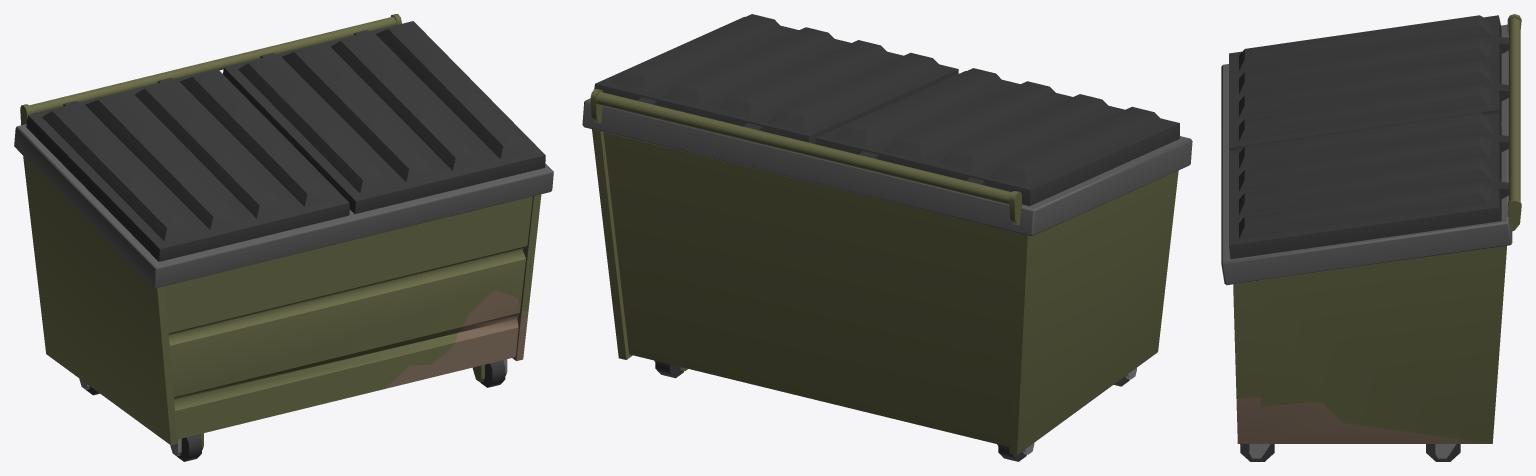
Rendered from model_dumpster.fbx.
3 views of the same model, side by side, from view 1: azimuth 30°, elevation 25°; view 2: azimuth 150°, elevation 25°; view 3: azimuth 270°, elevation 25° (orthographic). The views are drawn at different scales.
Visible parts, largest first — view 1: model_dumpster, lid2, lid1; view 2: model_dumpster, lid2, lid1; view 3: model_dumpster, lid1, lid2.
Part boxes in pixels (box(x1,y1,x2,y2)): model_dumpster: box(14, 14, 553, 461); lid2: box(26, 69, 349, 261); lid1: box(223, 21, 545, 213); model_dumpster: box(582, 89, 1192, 461); lid2: box(815, 68, 1179, 206); lid1: box(594, 14, 958, 144); model_dumpster: box(1221, 14, 1521, 461); lid1: box(1229, 113, 1508, 259); lid2: box(1229, 15, 1508, 150).
Size of the model in its own units: 220 by 144 by 140.
1 material, 1 textured.
